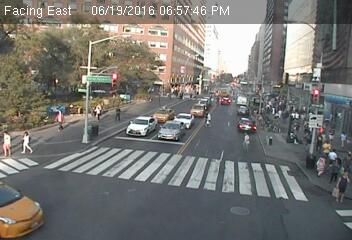neg: (36, 162, 73, 211), (82, 166, 118, 215), (173, 181, 200, 217), (200, 137, 226, 171), (62, 29, 87, 63), (140, 124, 161, 152), (5, 186, 24, 212), (153, 89, 172, 115), (136, 51, 154, 76)
pos: (335, 168, 351, 204), (16, 129, 36, 156), (51, 107, 70, 132), (110, 103, 126, 124), (238, 130, 254, 151), (203, 111, 216, 129)
